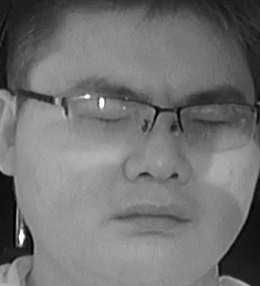blink: (89, 110, 125, 127), (191, 114, 224, 130)
glass: (176, 97, 260, 154), (65, 96, 156, 147)
mouth: (114, 200, 191, 239)
